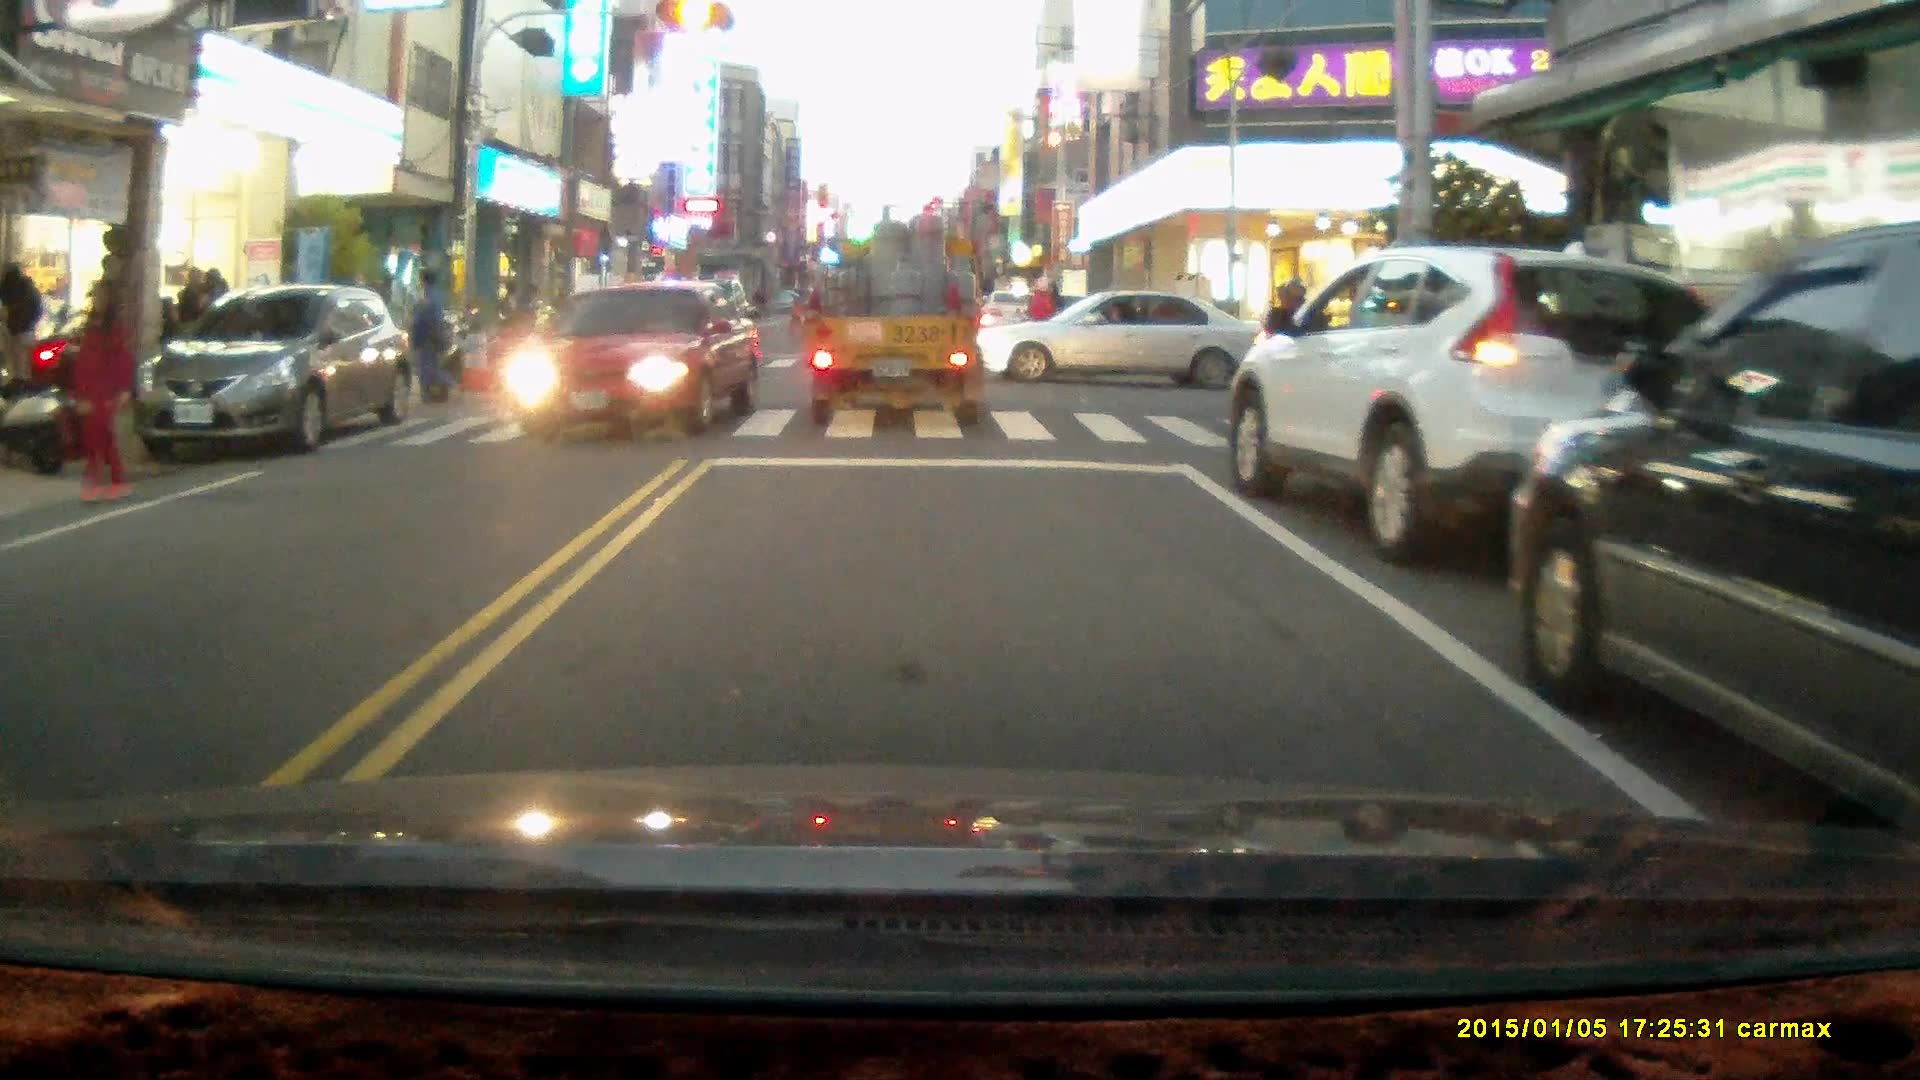pedestrian: (65, 276, 138, 505), (405, 265, 453, 403), (4, 260, 43, 393), (452, 318, 490, 399)
rider: (1001, 270, 1087, 360)
vehicle: (1513, 223, 1920, 838), (1228, 247, 1766, 567), (135, 286, 410, 464), (806, 195, 983, 441), (503, 280, 761, 440), (975, 290, 1271, 395)
